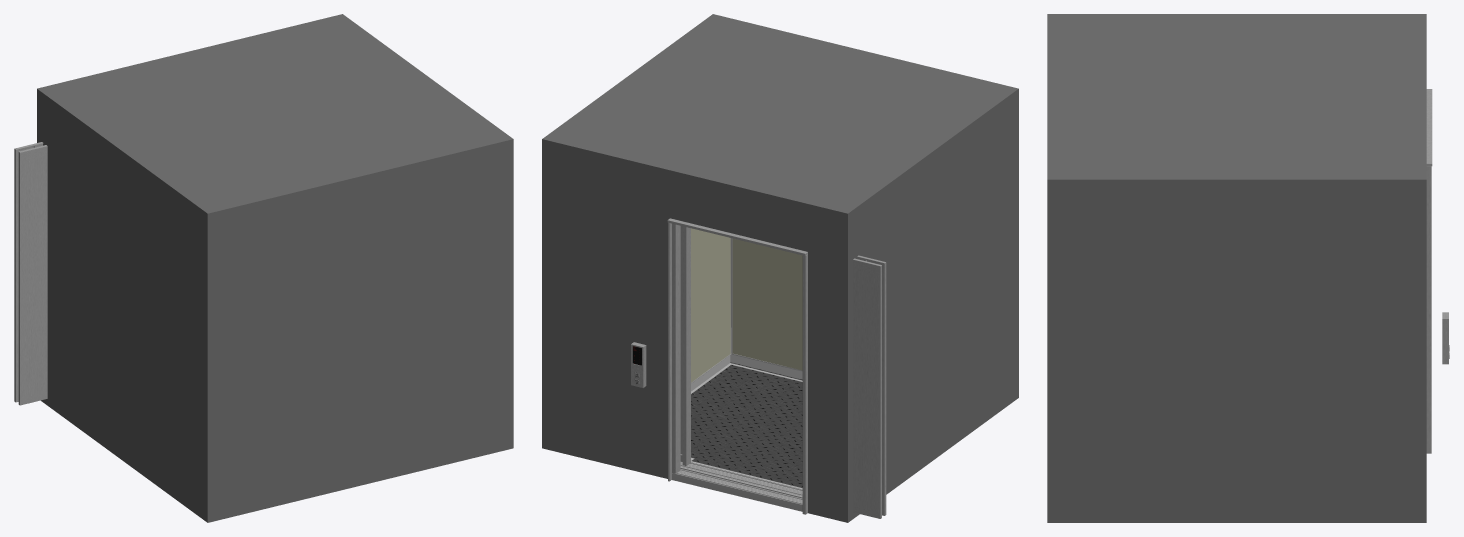
3 renders of one model, left to right at view 1: azimuth 30°, elevation 25°; view 2: azimuth 150°, elevation 25°; view 3: azimuth 270°, elevation 25°, orthographic. The views are drawn at different scales.
Visible parts, largest first — view 1: elevator_Shaft, elevator_door_part_2; view 2: elevator_Shaft, elevator_car_part_7, elevator_door_part_2, elevator_car_wall_par_2, elevator_car_wall_par_3, floor_door_part_2, floor_door_frame_part_1, floor_door_track_platform, elevator_door_track_platform, elevator_car_part_8; view 3: elevator_Shaft, floor_door_frame_part_1.
Part boxes in pixels (bbox=[...]): elevator_Shaft: bbox=[37, 14, 513, 522]; elevator_door_part_2: bbox=[14, 142, 47, 405]; elevator_Shaft: bbox=[542, 14, 1018, 522]; elevator_car_part_7: bbox=[691, 362, 802, 487]; elevator_door_part_2: bbox=[853, 255, 886, 518]; elevator_car_wall_par_2: bbox=[732, 238, 802, 370]; elevator_car_wall_par_3: bbox=[691, 228, 730, 382]; floor_door_part_2: bbox=[672, 223, 690, 473]; floor_door_frame_part_1: bbox=[667, 218, 807, 514]; floor_door_track_platform: bbox=[672, 469, 802, 511]; elevator_door_track_platform: bbox=[680, 462, 802, 498]; elevator_car_part_8: bbox=[691, 363, 802, 489]; elevator_Shaft: bbox=[1047, 14, 1426, 522]; floor_door_frame_part_1: bbox=[1426, 89, 1432, 453].
Size of the model in its own units: 2.56 by 2.27 by 2.41.
Materials: 48 (14 with a texture image).
